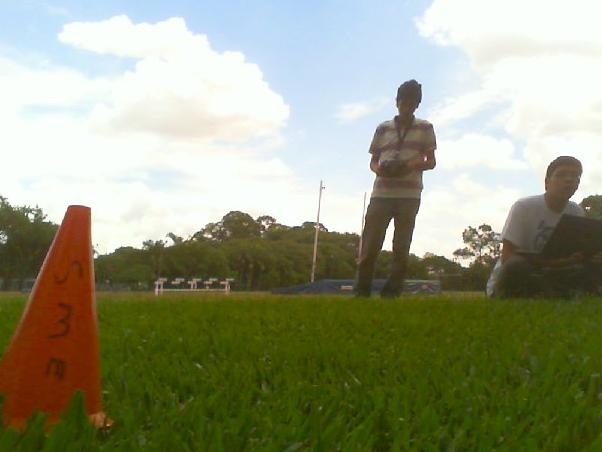0 cone: (0, 205, 113, 433)
